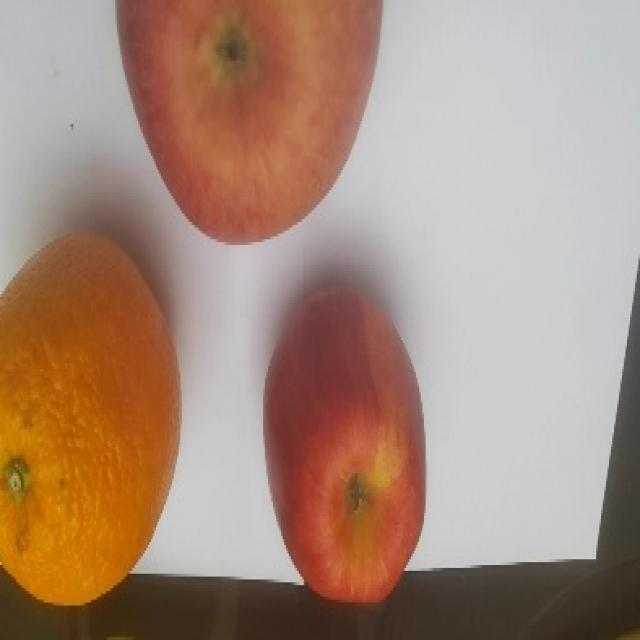Apple: (114, 0, 383, 245), (262, 283, 426, 604)
Orange: (0, 230, 182, 606)
